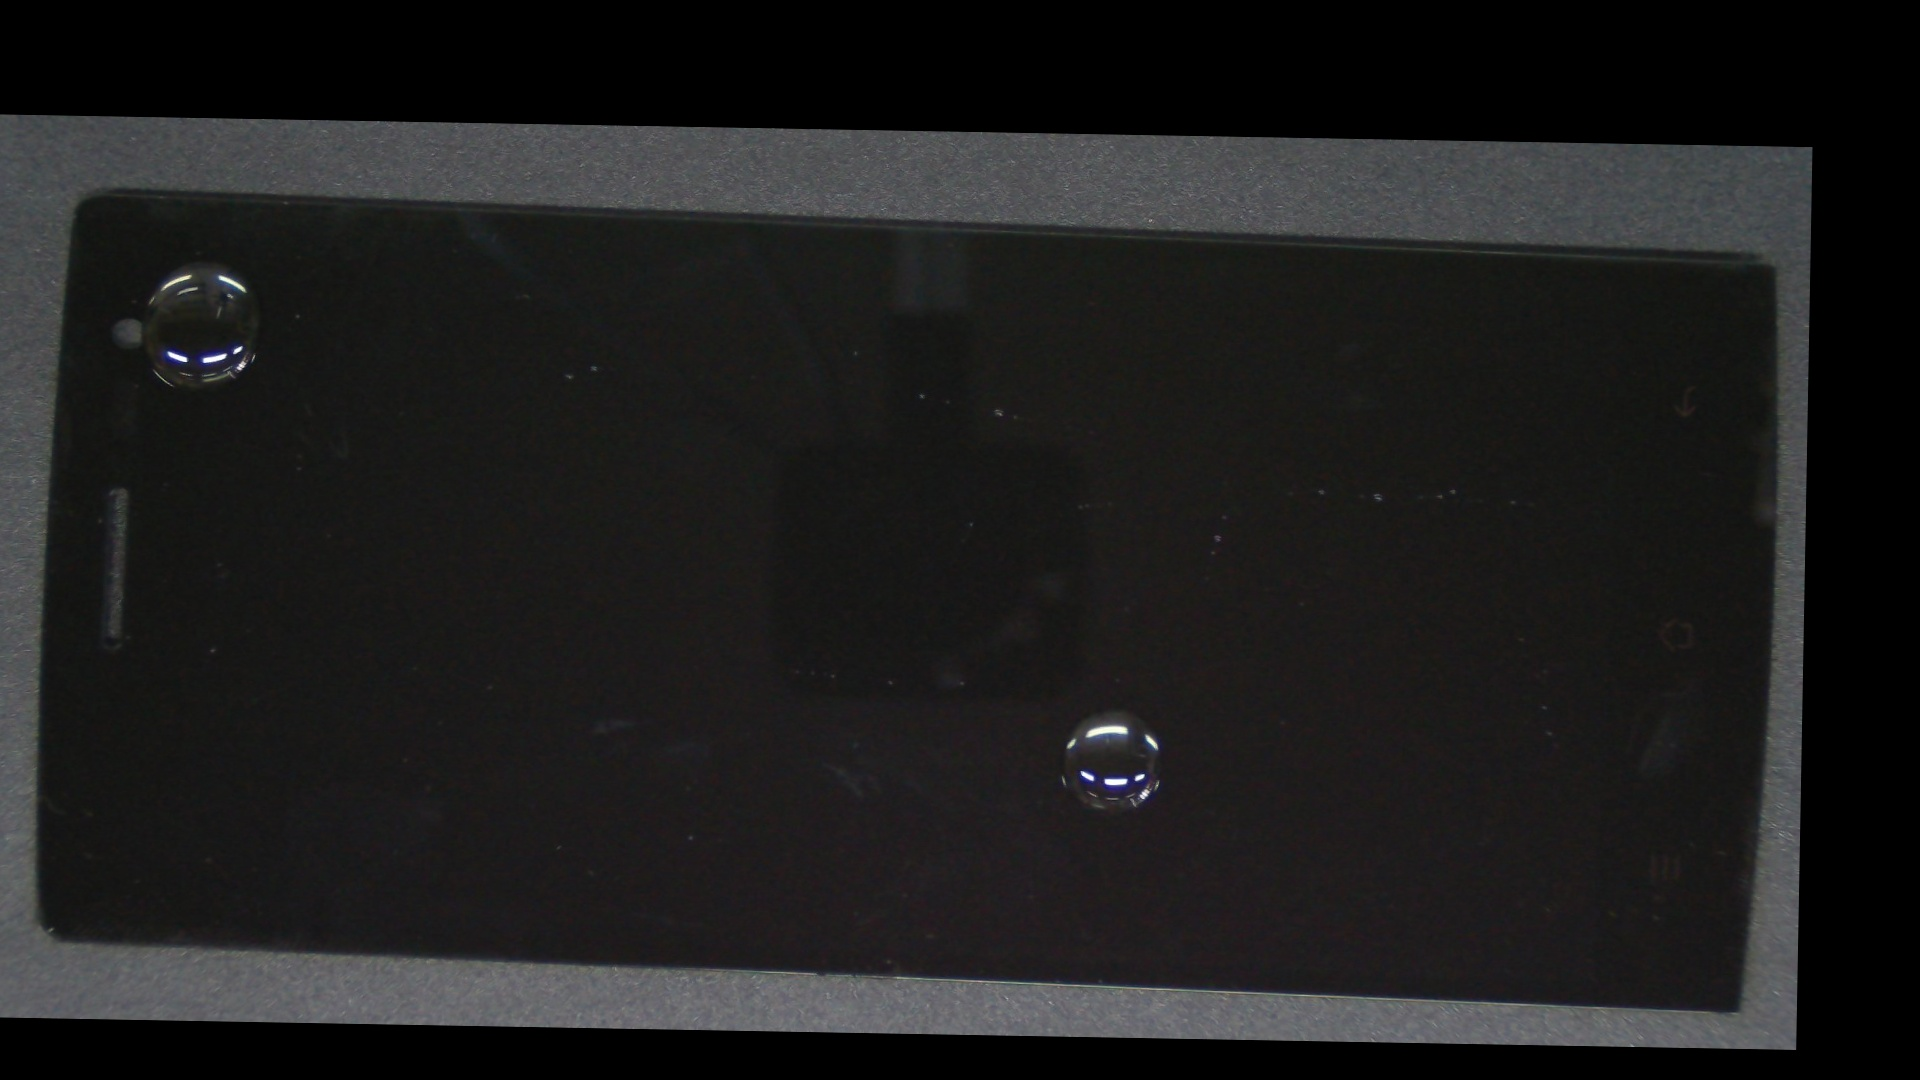oil: (537, 411, 1687, 1007), (91, 187, 319, 335)
